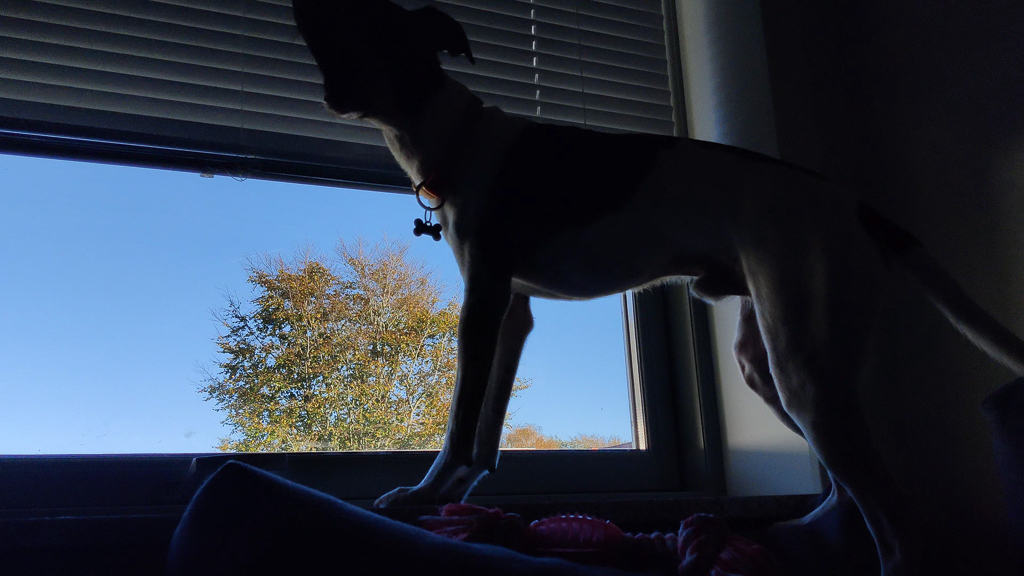Dog: (275, 0, 1024, 576)
